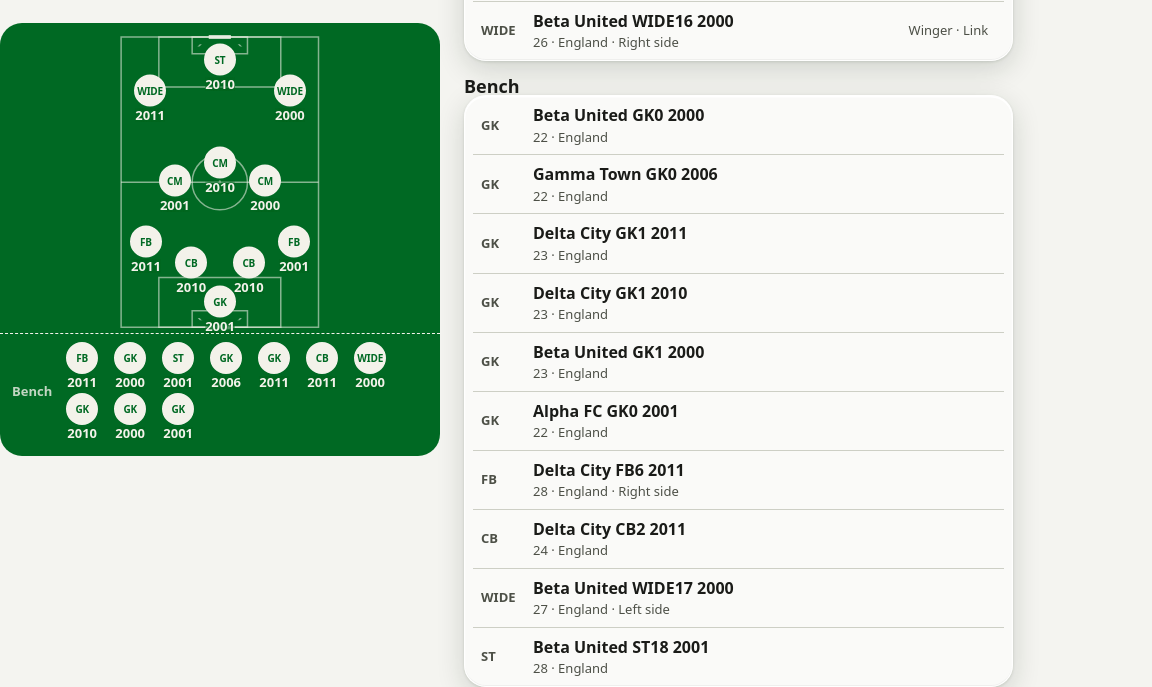
Test case: SquadTab › shows the overall only once ratings are revealed, and a bench sheet without a job
This screenshot has width=1152, height=687.
(page scrolled)
Click the button "FB Delta City FB6 2011 28 · England · Right side" at (609, 470), box [473,451,1004,509]
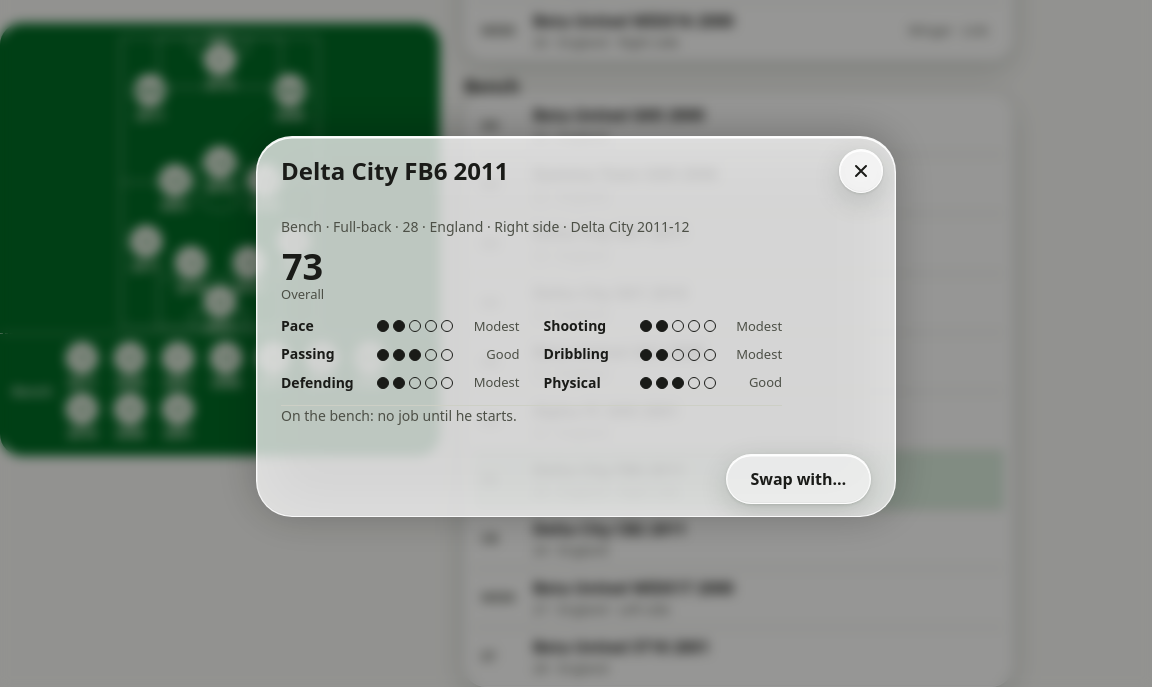
expect the dialog shows "Overall": met, box [281,286,324,304]
expect the dialog shows "On the bench": met, box [281,406,517,425]
